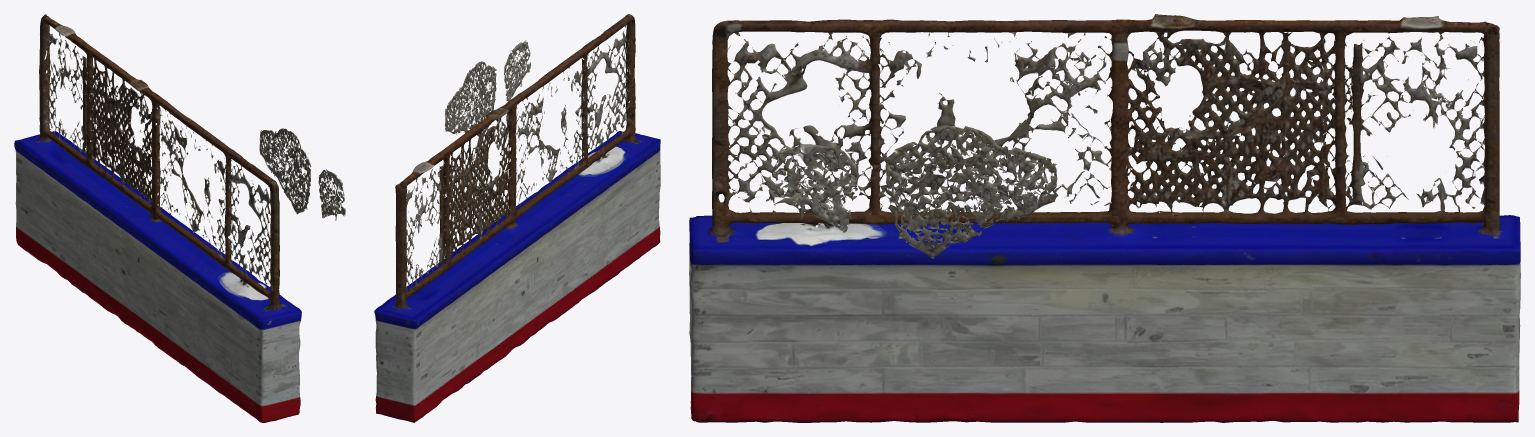
File: g67_court_board.glb
3 renders of one model, left to right at view 1: azimuth 30°, elevation 25°; view 2: azimuth 150°, elevation 25°; view 3: azimuth 270°, elevation 25°, orthographic. The views are drawn at different scales.
Visible parts, largest first — view 1: tripo_node_25fc2687; view 2: tripo_node_25fc2687; view 3: tripo_node_25fc2687.
Boxes of the visible parts, x1,y1,x2,y2 form: tripo_node_25fc2687: (14, 14, 345, 422); tripo_node_25fc2687: (374, 14, 660, 422); tripo_node_25fc2687: (689, 14, 1520, 422).
Bounding box in the file's own units: 25.06 × 50.4 × 97.57.
Materials: 1 (1 with a texture image).
